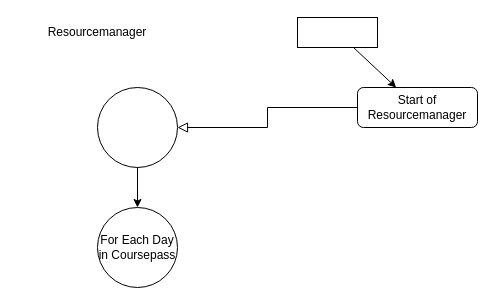
The diagram is 495 pixels wide and 305 high, and some of its shapes have lost their labels. Each missing label, with the box of its shape:
Coursepass: (296, 16, 378, 48)
Get Order of Subjects: (96, 86, 178, 168)
